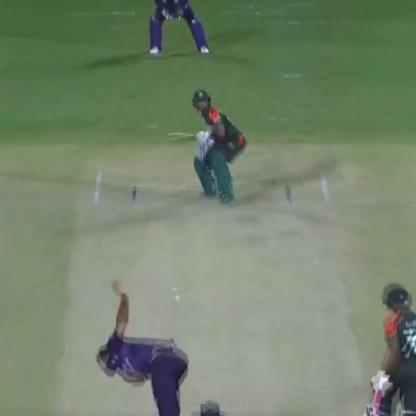ball: (166, 293, 184, 303), (166, 284, 182, 293)
bat: (156, 122, 218, 148)
pitch: (56, 154, 368, 416)
